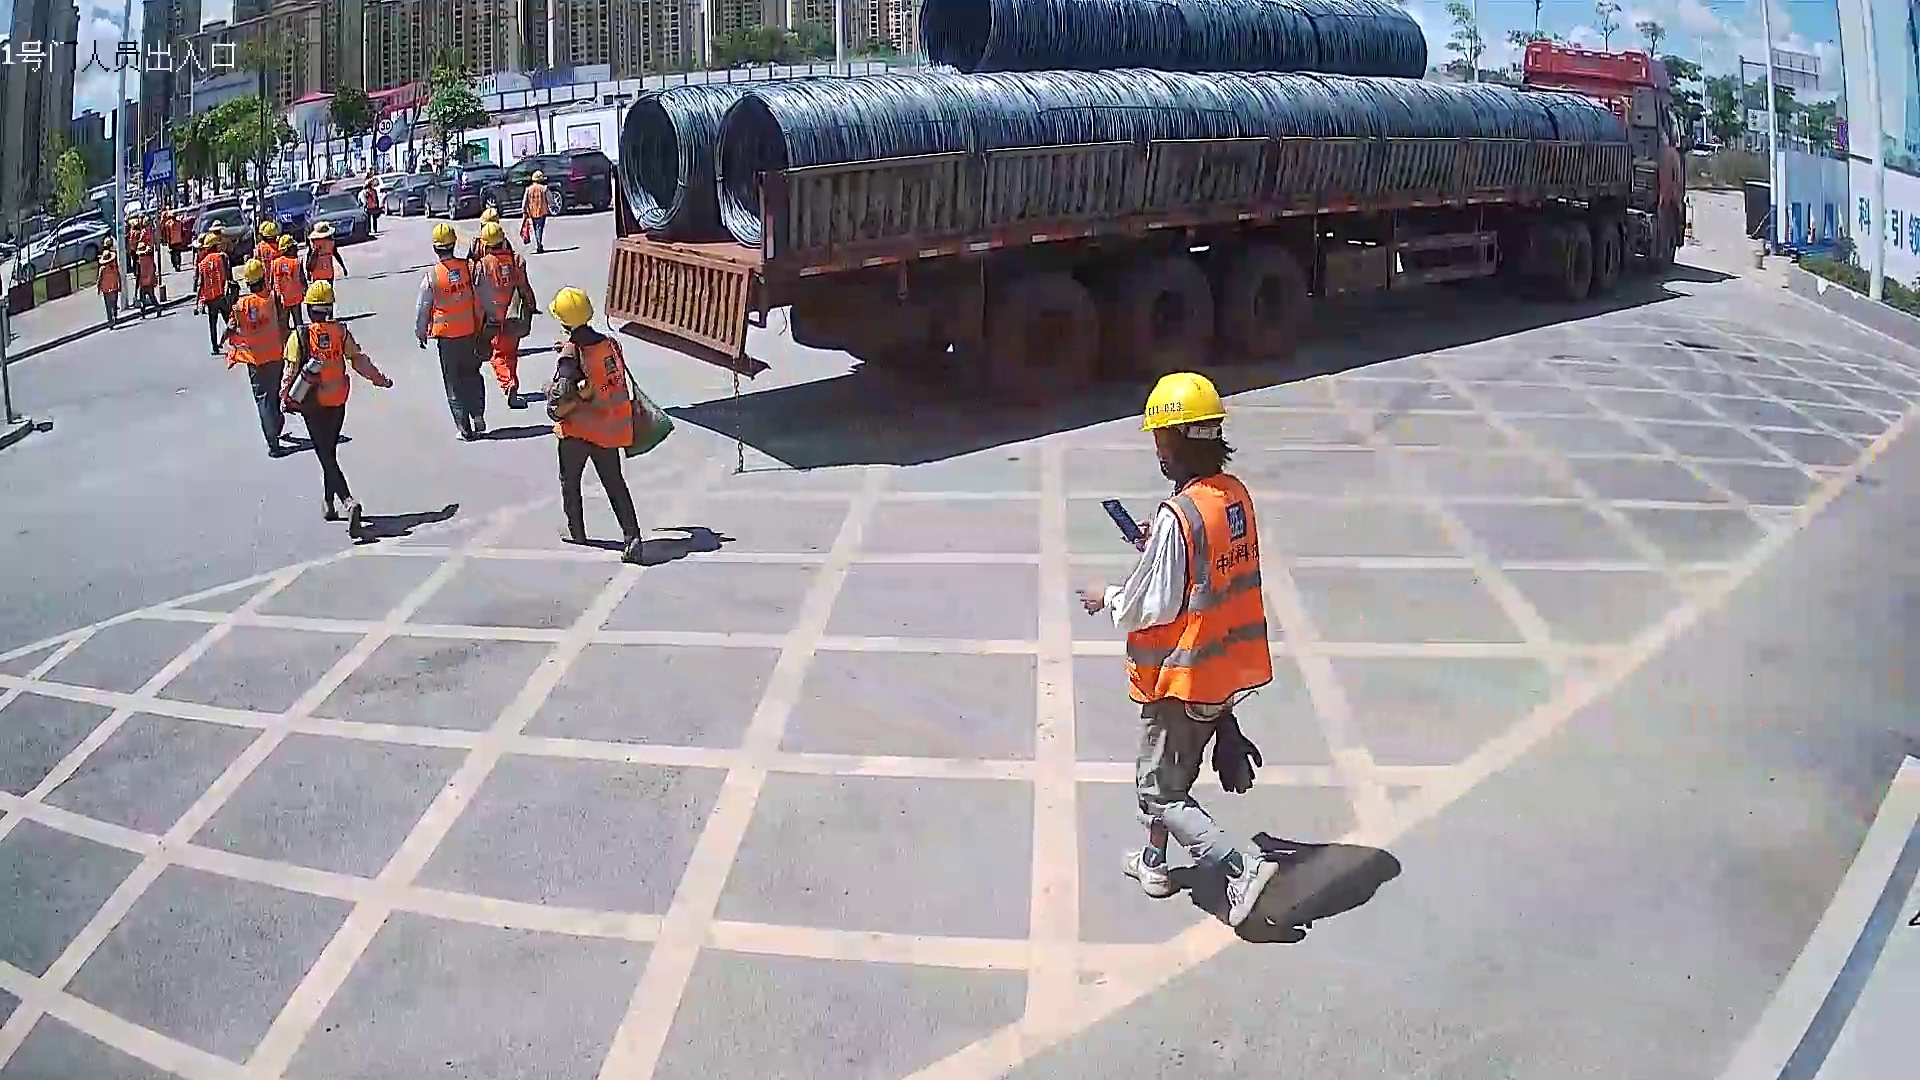person: (1070, 363, 1284, 932), (278, 278, 395, 543), (545, 281, 646, 568), (412, 219, 490, 444), (224, 256, 290, 460), (473, 221, 538, 409), (195, 232, 236, 358), (269, 232, 308, 328), (305, 220, 350, 288), (521, 167, 553, 254), (131, 241, 164, 321), (95, 248, 124, 330)
reflective_vest: (1122, 468, 1274, 706), (547, 336, 635, 449), (425, 256, 485, 339), (226, 289, 284, 371), (302, 320, 353, 407), (477, 250, 522, 320), (273, 255, 305, 309), (197, 252, 227, 307), (308, 239, 335, 279), (525, 184, 549, 218), (136, 255, 155, 287), (100, 264, 119, 292)
safety_helmet: (1142, 363, 1240, 484), (545, 282, 597, 332), (303, 279, 335, 322), (430, 221, 459, 257), (242, 258, 268, 295), (480, 222, 508, 250), (276, 233, 301, 257), (258, 218, 278, 241), (477, 207, 500, 225), (202, 233, 220, 253), (528, 168, 547, 183)
